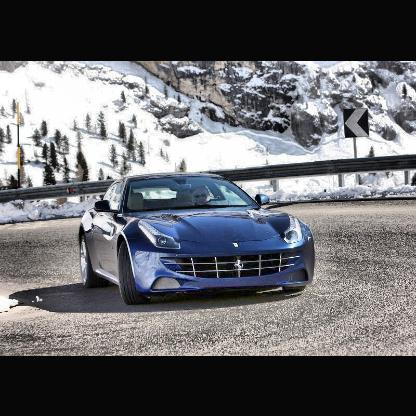Ferrari FF Coupe 2012: (81, 173, 316, 302)
